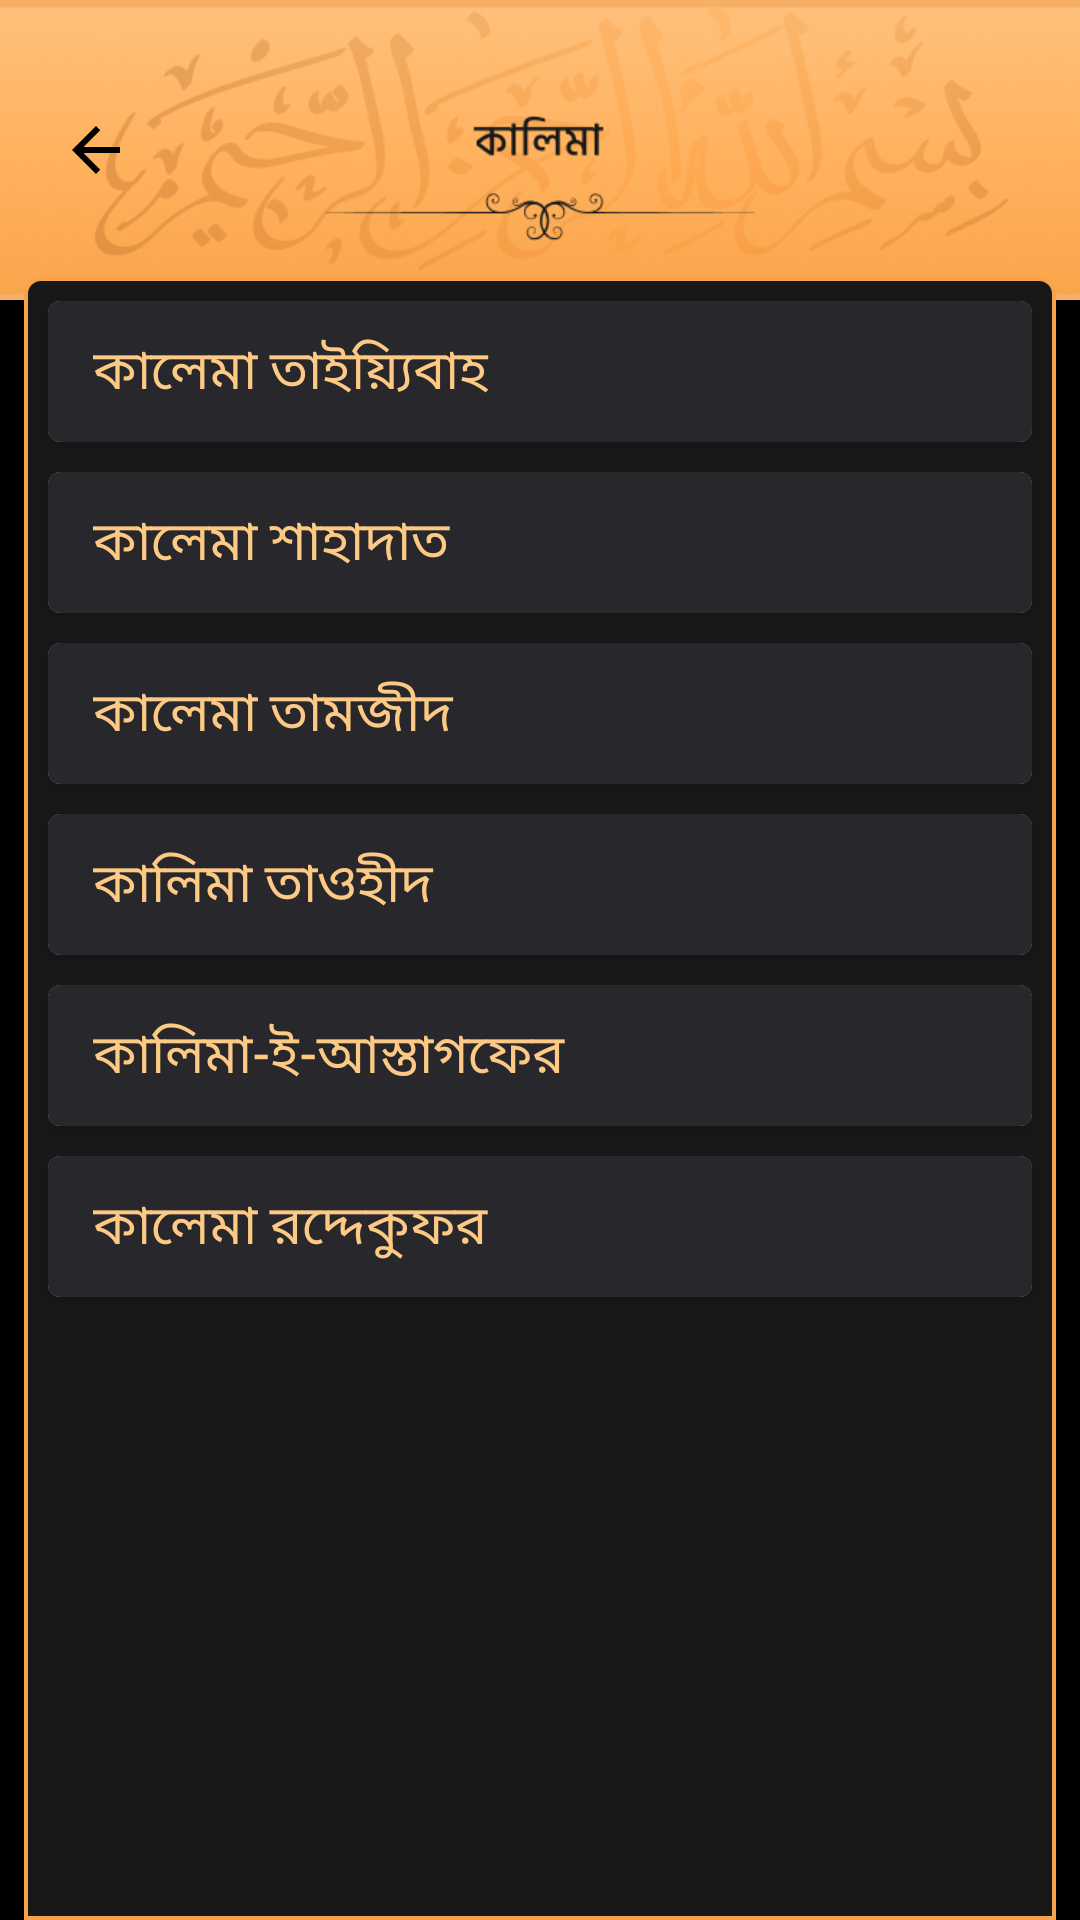

Locate icon controls on the screen. Image size 1080 × 1920, boxes as bbox=[x1, y1, x2, y2].
back: bbox=[72, 115, 132, 186]
